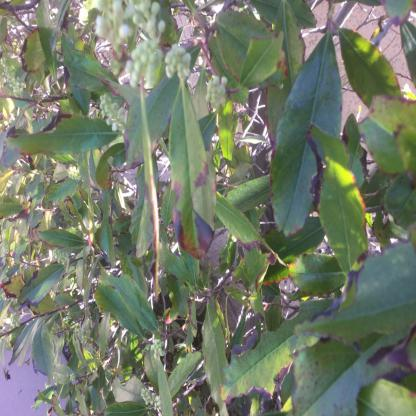Cherry leaf: (264, 25, 353, 273), (214, 310, 346, 409), (316, 109, 380, 301), (163, 73, 222, 272), (82, 256, 171, 352), (0, 115, 127, 173), (17, 251, 72, 320), (28, 211, 96, 262), (39, 171, 93, 221)
